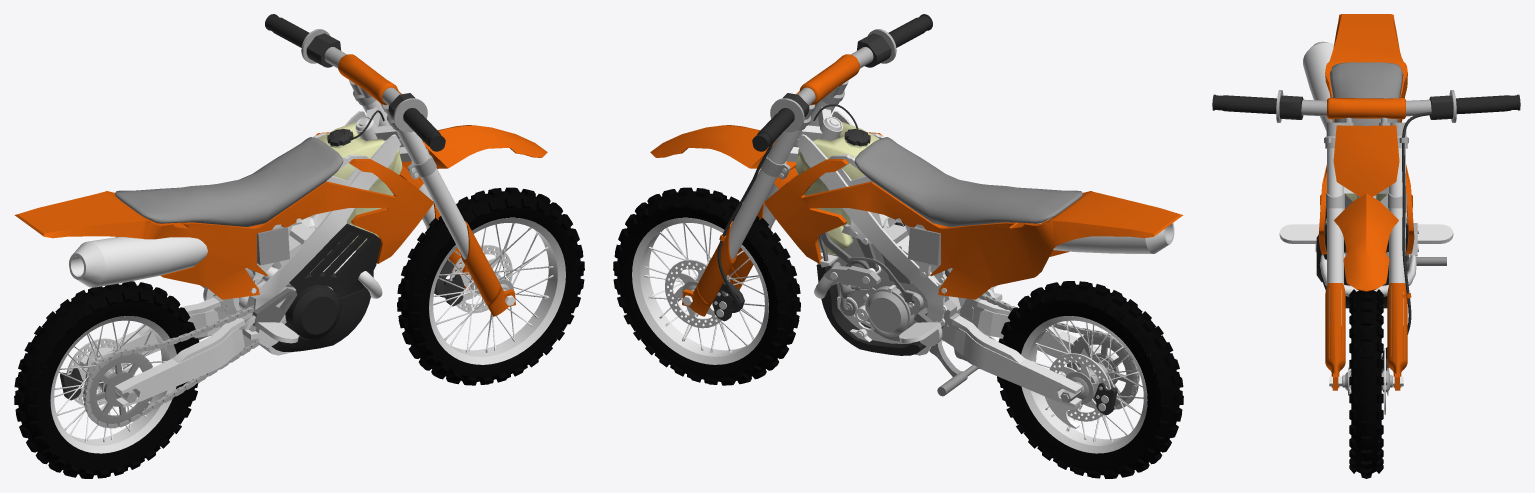
The model's file is moto-ligero.glb.
3 views of the same model, side by side, from view 1: azimuth 30°, elevation 25°; view 2: azimuth 150°, elevation 25°; view 3: azimuth 270°, elevation 25° (orthographic). The views are drawn at different scales.
Parts seen in each view (by area): view 1: Object_101, wheel_f, wheel_r, Object_27, Object_33, Object_71, Object_73, Object_89, Object_31, Object_14, Object_4, Object_85 (+8 smaller); view 2: Object_101, wheel_f, wheel_r, Object_27, Object_33, Object_73, Object_31, Object_14, Object_4, Object_85, Object_67, Object_89 (+13 smaller); view 3: Object_101, wheel_f, Object_33, Object_14, Object_27, Object_22, Object_73, Object_89, Object_25, Object_23, Object_16, Object_20 (+3 smaller).
Part boxes in pixels (x1,y1,x2,y2): Object_101: (14,54,547,299); wheel_f: (404,194,581,383); wheel_r: (21,287,204,476); Object_27: (115,137,343,226); Object_33: (14,187,584,478); Object_71: (271,223,380,351); Object_73: (200,110,400,355); Object_89: (69,237,355,287); Object_31: (81,297,245,407); Object_14: (355,100,468,259); Object_4: (50,316,176,453); Object_85: (318,121,402,250); Object_101: (650,54,1183,299); wheel_f: (616,194,793,383); wheel_r: (999,287,1176,476); Object_27: (854,137,1082,226); Object_33: (613,187,1183,478); Object_73: (797,110,1002,355); Object_31: (952,299,1117,407); Object_14: (729,100,842,259); Object_4: (1021,316,1147,453); Object_85: (795,121,888,254); Object_67: (865,286,923,336); Object_89: (948,218,1174,269); Object_101: (1318,14,1414,373); wheel_f: (1325,283,1411,478); Object_33: (1349,290,1383,467); Object_14: (1327,148,1405,325); Object_27: (1329,62,1403,125); Object_22: (1212,94,1520,114); Object_73: (1279,224,1453,252); Object_89: (1303,41,1346,254); Object_25: (1279,95,1453,119); Object_23: (1276,90,1456,122); Object_16: (1402,112,1431,329); Object_20: (1324,117,1408,148).
Size of the model in its own units: 2.15 by 1.27 by 1.1.
